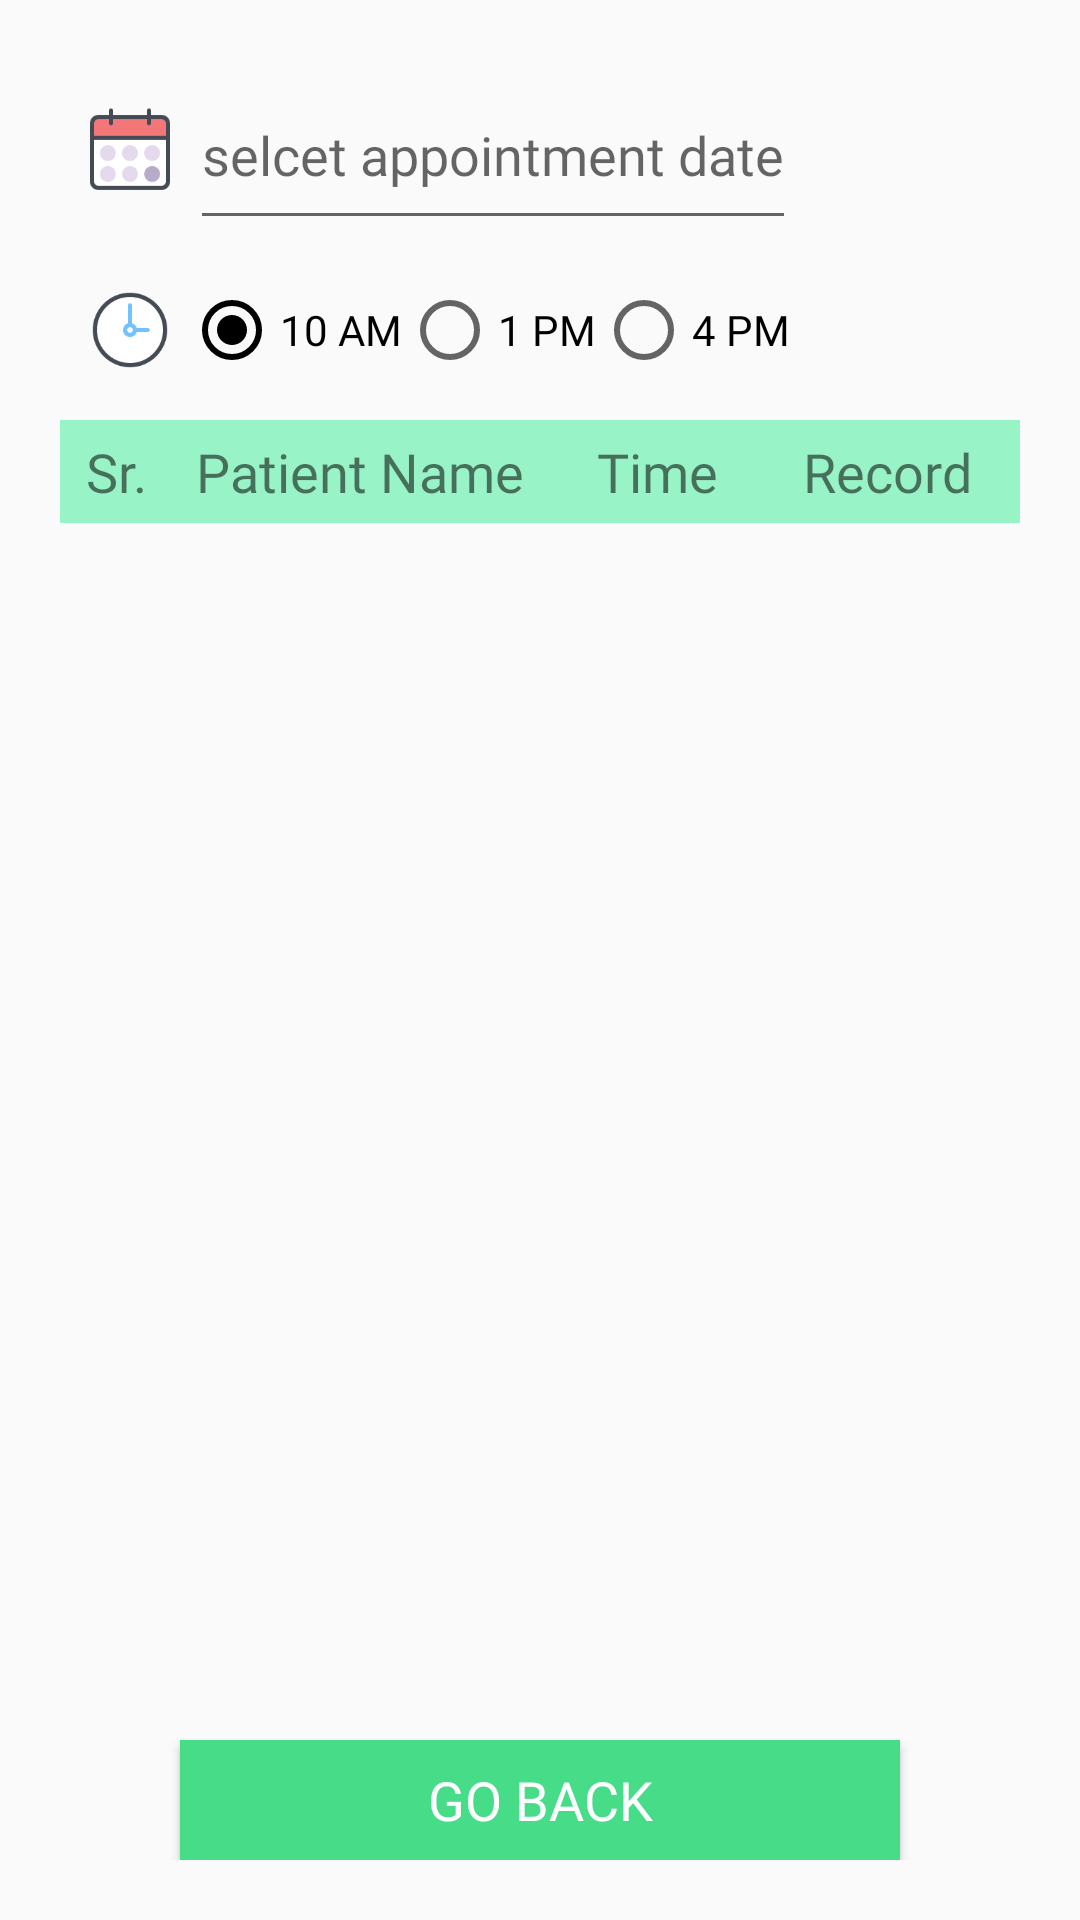

Where to tap for icons on this 1080 x 1920 app screen, as (x,y):
calender: (130,149)
clock: (130,330)
